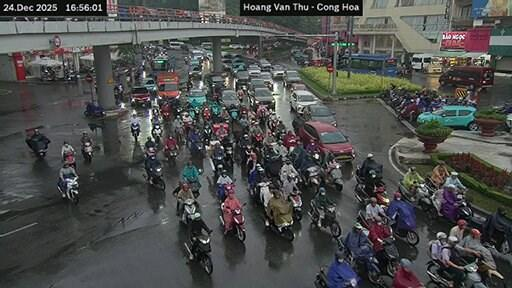motorbike: (336, 237, 380, 283), (397, 180, 437, 216), (307, 199, 341, 237), (185, 234, 211, 274), (476, 257, 505, 286), (389, 215, 418, 243), (377, 238, 397, 275), (268, 215, 294, 241), (426, 260, 451, 286), (463, 262, 485, 287), (455, 191, 473, 221), (301, 165, 320, 193), (57, 176, 76, 203), (179, 198, 198, 224), (323, 163, 341, 190), (230, 208, 243, 241), (250, 180, 269, 202), (397, 102, 419, 121), (147, 166, 165, 189), (217, 179, 233, 202), (288, 192, 300, 220), (221, 138, 233, 166), (374, 184, 389, 205), (83, 103, 105, 116), (314, 265, 327, 287), (355, 183, 370, 202), (211, 154, 223, 176), (185, 178, 198, 197), (342, 271, 358, 286), (189, 140, 204, 156), (163, 147, 176, 163), (152, 124, 162, 144), (83, 142, 92, 162), (202, 125, 211, 144), (64, 153, 74, 169), (114, 82, 122, 100), (66, 68, 77, 81), (310, 151, 320, 165), (34, 148, 45, 160), (131, 122, 138, 140), (202, 107, 211, 121), (229, 104, 236, 120), (218, 202, 223, 219), (237, 91, 243, 102), (442, 216, 451, 220), (362, 229, 367, 233), (220, 219, 223, 225), (242, 202, 245, 207), (435, 212, 438, 216)
